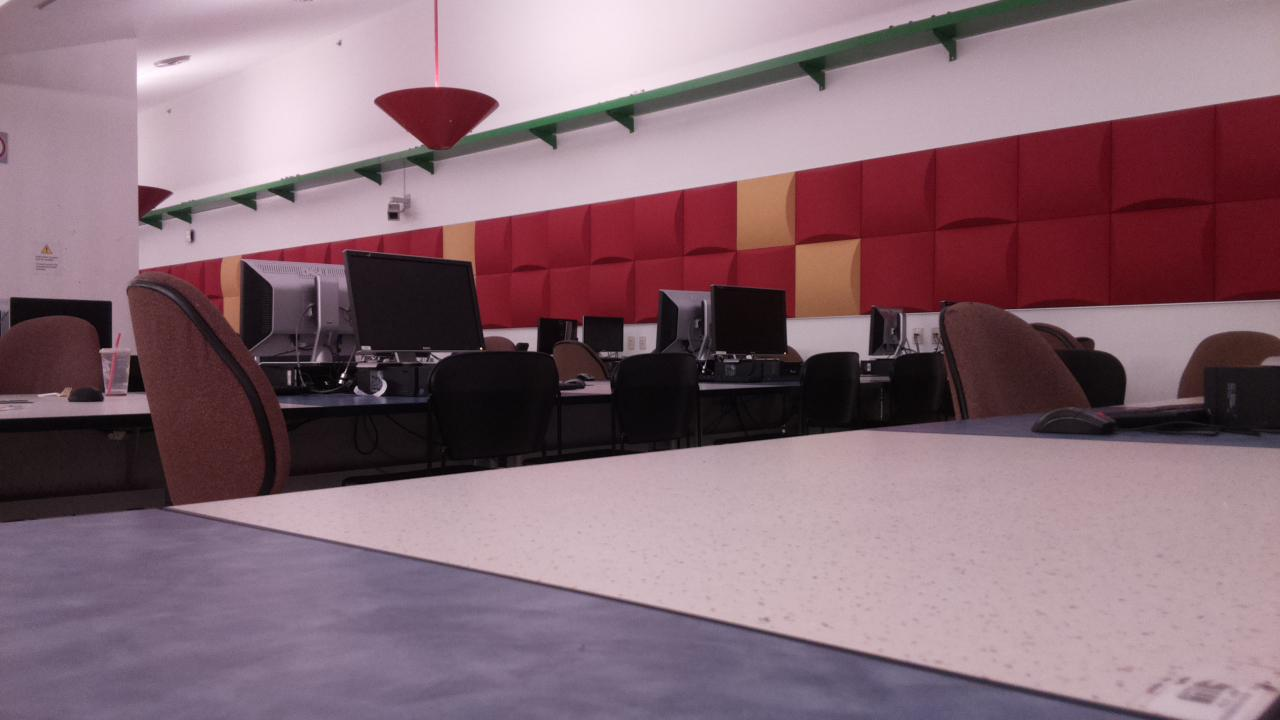sign: (34, 240, 60, 275)
tvmonitor: (345, 250, 485, 349), (244, 259, 375, 355), (714, 286, 787, 353), (657, 290, 728, 357), (869, 306, 903, 353), (583, 316, 623, 352), (538, 318, 576, 353)
